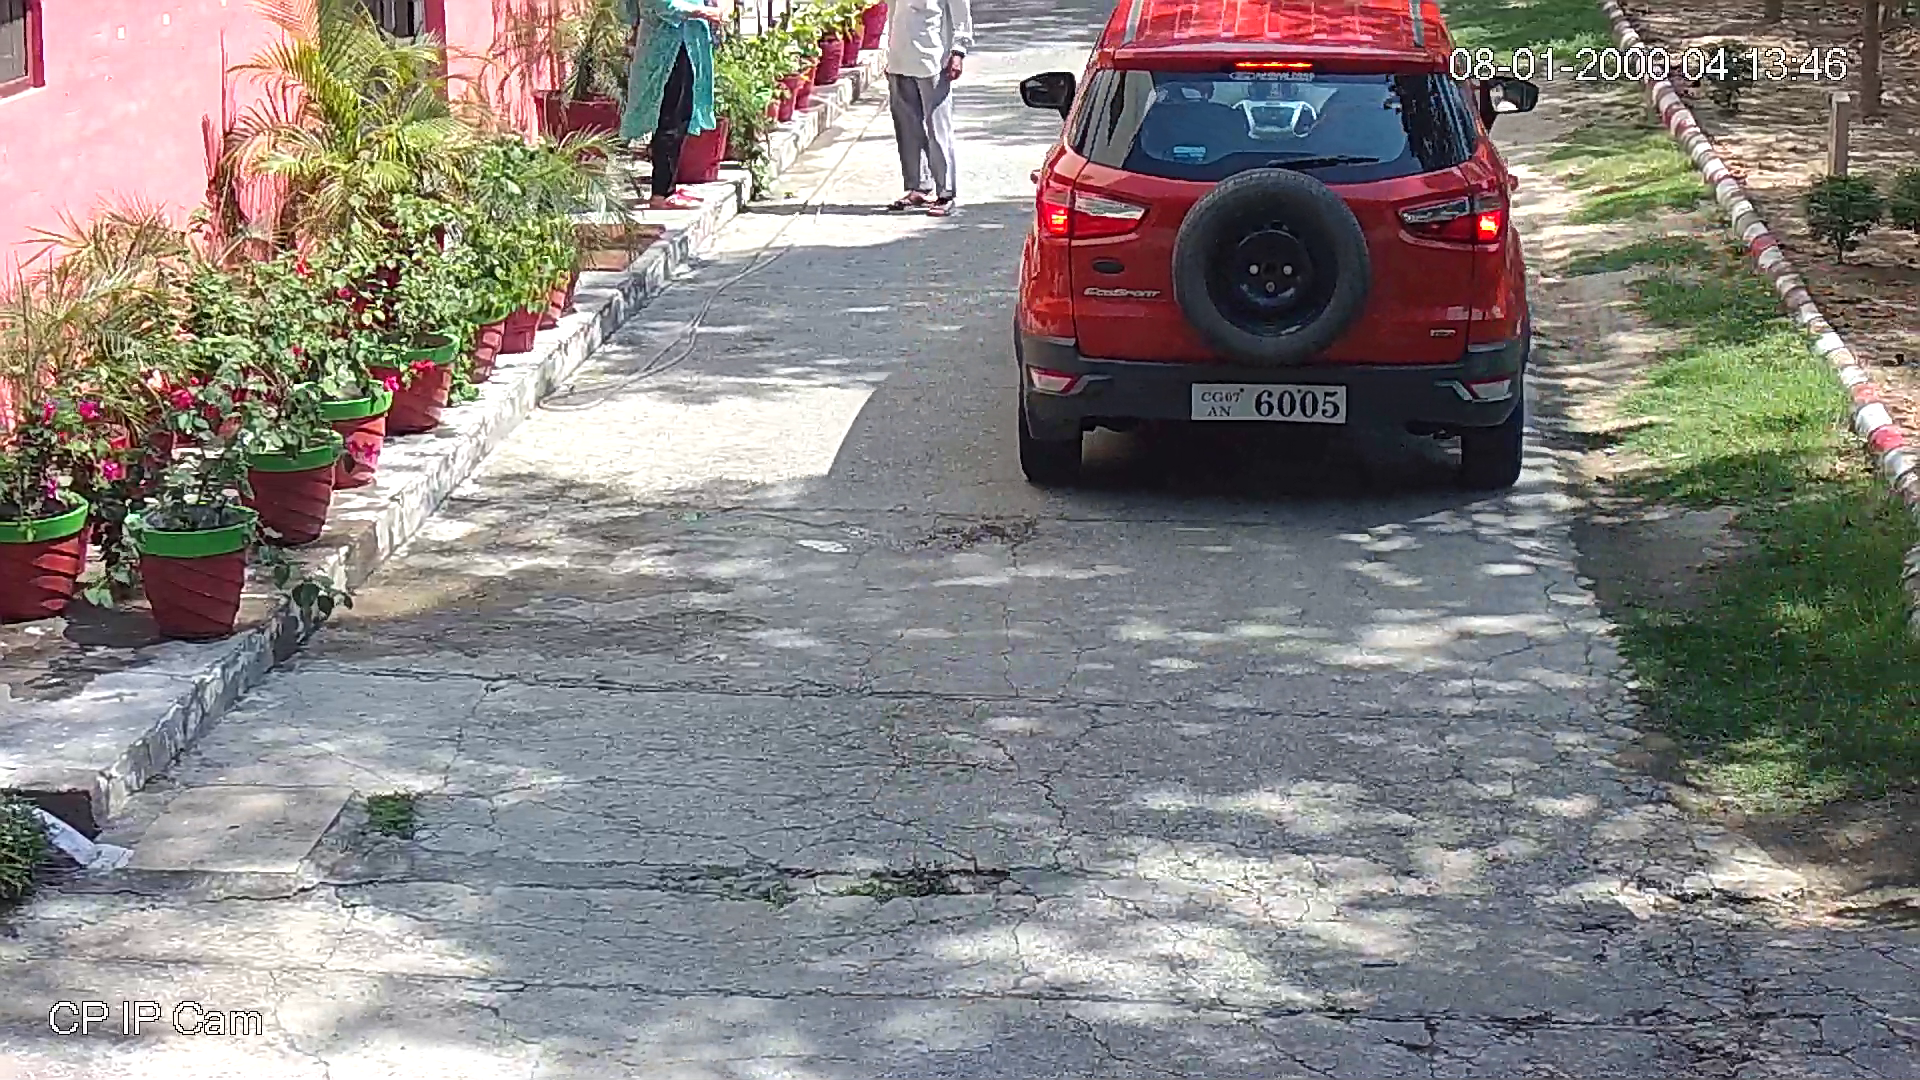plate: (1184, 377, 1351, 427)
